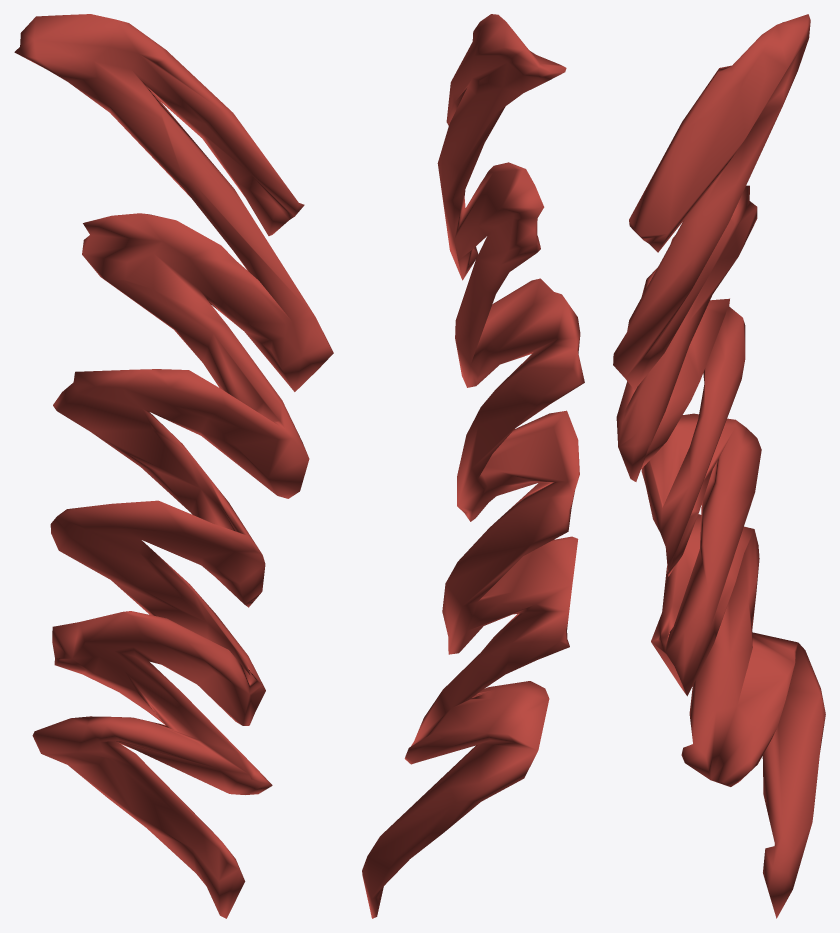
Rendered from musculos-multifidus-colli-muscle-l.glb.
3 views of the same model, side by side, from view 1: azimuth 30°, elevation 25°; view 2: azimuth 150°, elevation 25°; view 3: azimuth 270°, elevation 25° (orthographic). The views are drawn at different scales.
Visible parts, largest first — view 1: Multifidus colli muscle.l; view 2: Multifidus colli muscle.l; view 3: Multifidus colli muscle.l.
Part boxes in pixels (bbox=[...]): Multifidus colli muscle.l: bbox=[14, 14, 333, 918]; Multifidus colli muscle.l: bbox=[362, 14, 584, 918]; Multifidus colli muscle.l: bbox=[613, 14, 825, 918].
Size of the model in its own units: 0.024 by 0.0981 by 0.0226.
